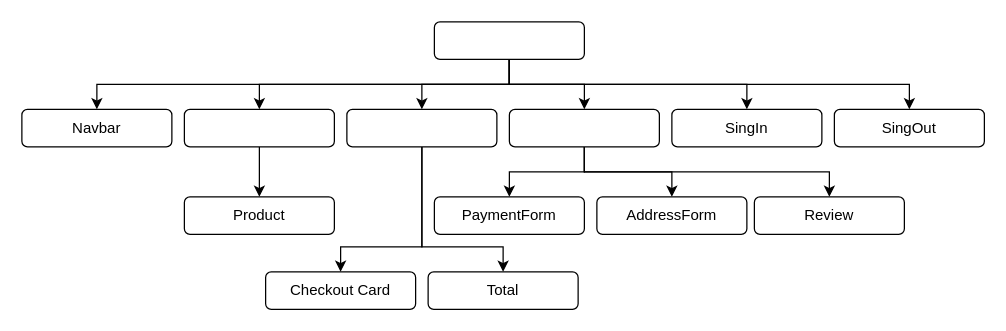
The diagram is 1006 pixels wide and 331 high, and some of its shapes have lost their labels. Each missing label, with the centre of its shape:
App.js: the point at 508,40
CheckoutPage: the point at 421,127
Chekout: the point at 583,127
Products: the point at 258,127
